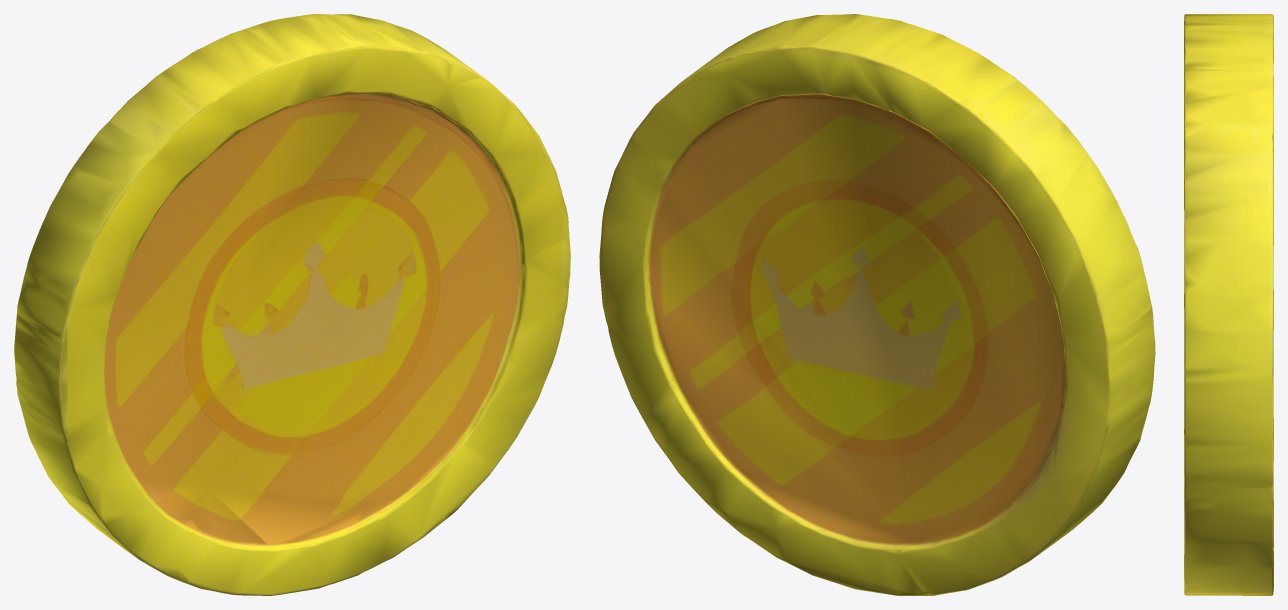
File: Coin.fbx
3 views of the same model, side by side, from view 1: azimuth 30°, elevation 25°; view 2: azimuth 150°, elevation 25°; view 3: azimuth 270°, elevation 25° (orthographic).
Parts seen in each view (by area): view 1: Mesh_0; view 2: Mesh_0; view 3: Mesh_0.
Part boxes in pixels (x1,y1,x2,y2): Mesh_0: (14, 14, 570, 595); Mesh_0: (599, 14, 1155, 595); Mesh_0: (1184, 14, 1273, 595).
Bounding box in the file's own units: 201 × 201 × 31.02.
1 material, 1 textured.
